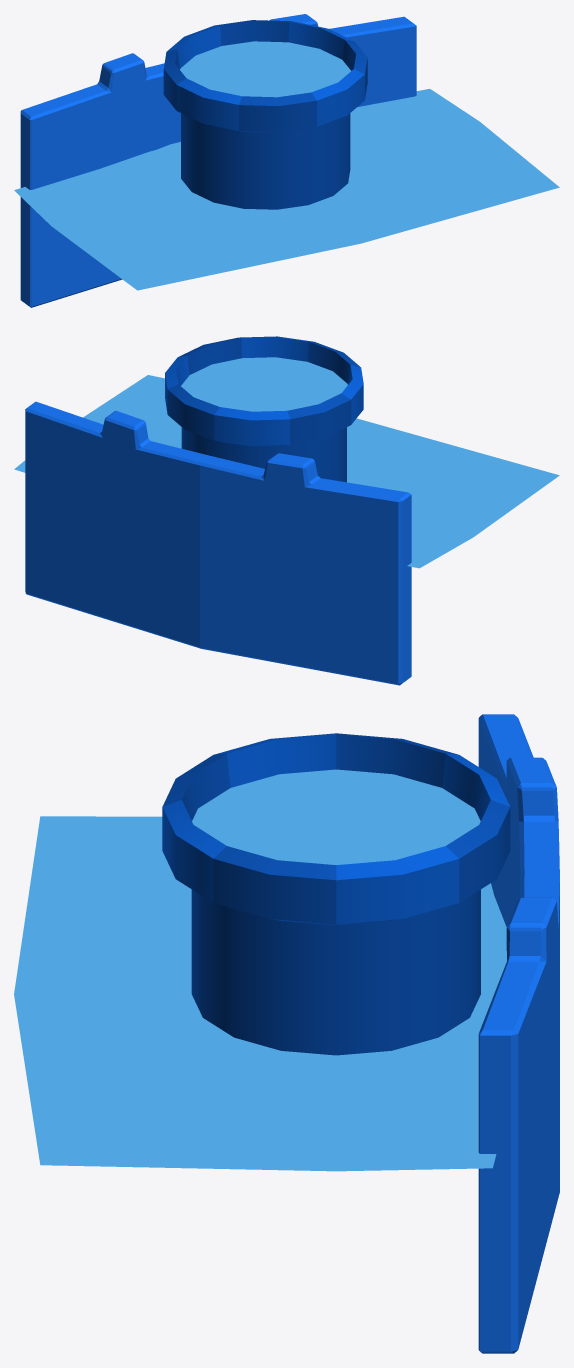
File: Tower.fbx
3 renders of one model, top to bottom at view 1: azimuth 30°, elevation 25°; view 2: azimuth 150°, elevation 25°; view 3: azimuth 270°, elevation 25°, orthographic. The views are drawn at different scales.
Parts seen in each view (by area): view 1: Tower; view 2: Tower; view 3: Tower.
Boxes of the visible parts, x1,y1,x2,y2 form: Tower: (14,14,559,307); Tower: (14,336,559,685); Tower: (14,714,559,1353).
Bounding box in the file's own units: 28.99 × 15.08 × 18.84.
